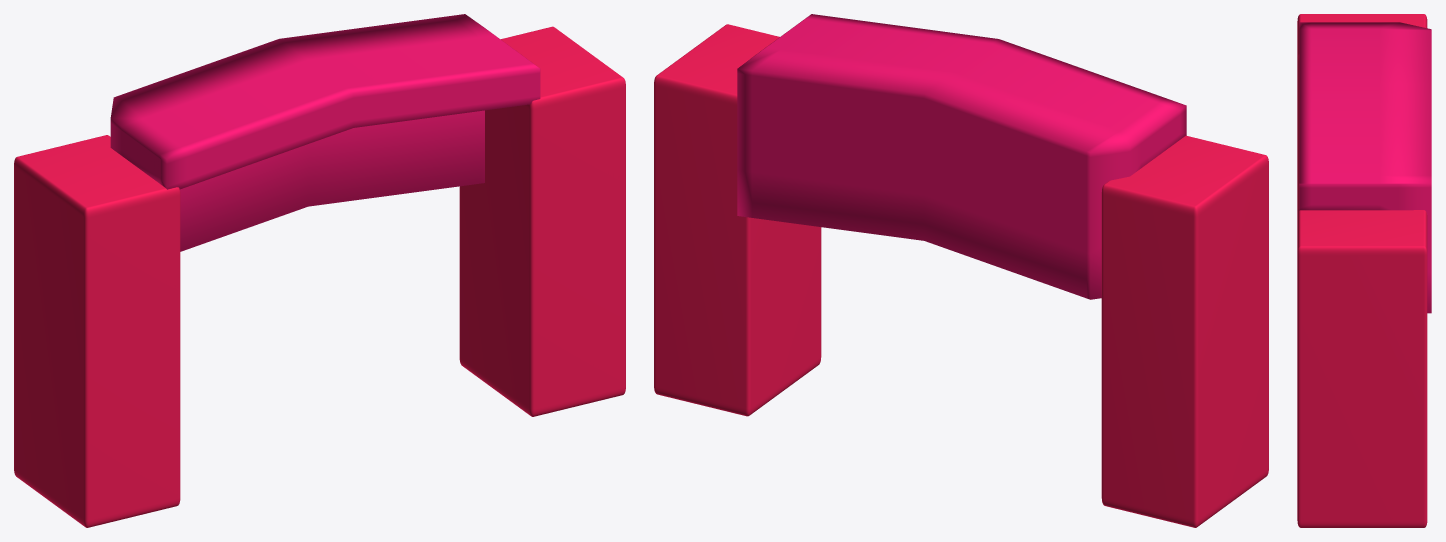
File: outside.obj
3 renders of one model, left to right at view 1: azimuth 30°, elevation 25°; view 2: azimuth 150°, elevation 25°; view 3: azimuth 270°, elevation 25°, orthographic. The views are drawn at different scales.
Visible parts, largest first — view 1: outside; view 2: outside; view 3: outside.
Boxes of the visible parts, <box> form: outside: <box>14,14,625,527</box>; outside: <box>654,14,1268,527</box>; outside: <box>1297,14,1431,527</box>.
Bounding box in the file's own units: 6.29 × 4.11 × 1.52.
